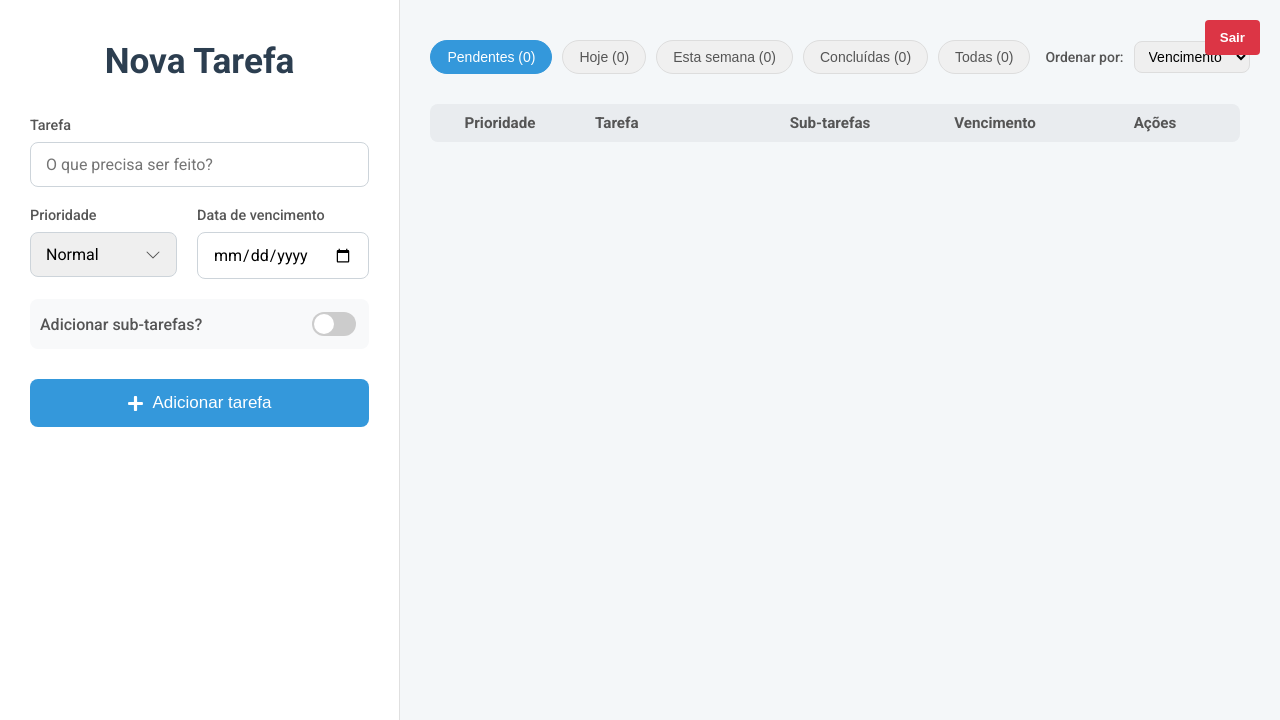
Test: Add Task › adiciona uma nova tarefa
The width and height of the screenshot is (1280, 720).
Type "Tarefa para teste" into the field with id "task-title" at (200, 165), box x1=30 y1=142 x2=369 y2=187
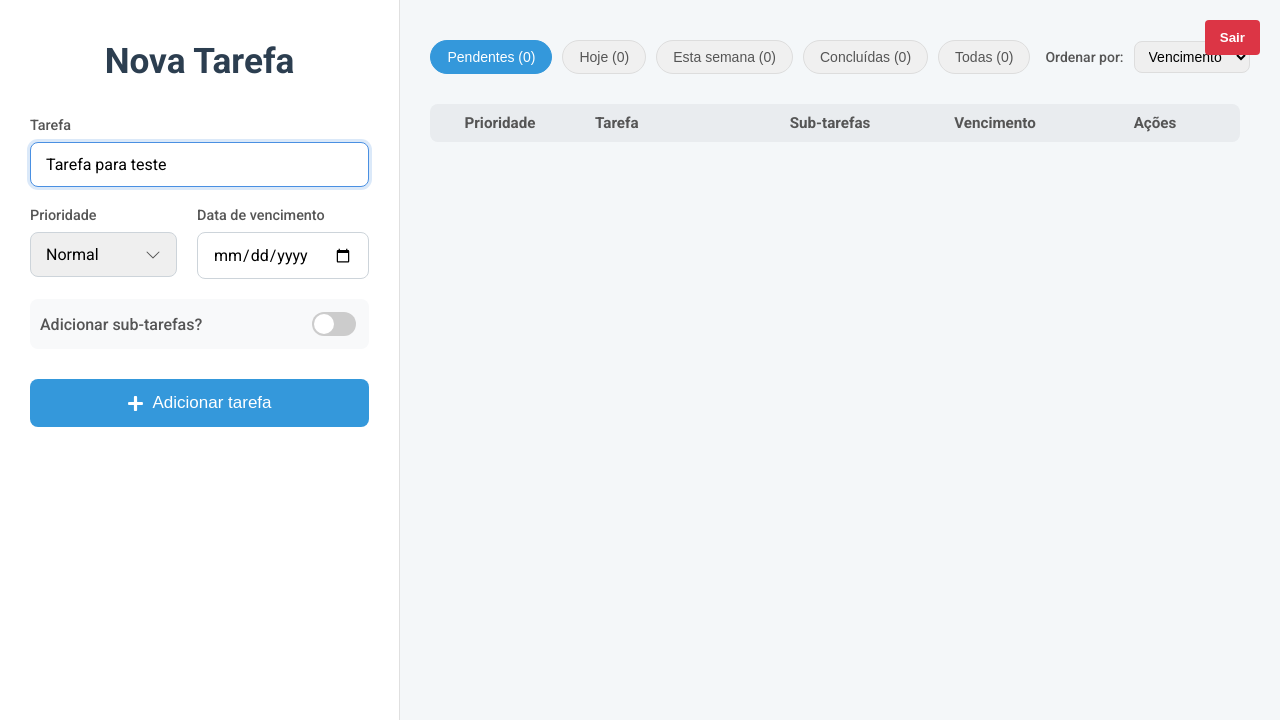
Select "Alta" in the dropdown with id "task-priority" at (104, 255), box x1=30 y1=232 x2=177 y2=277
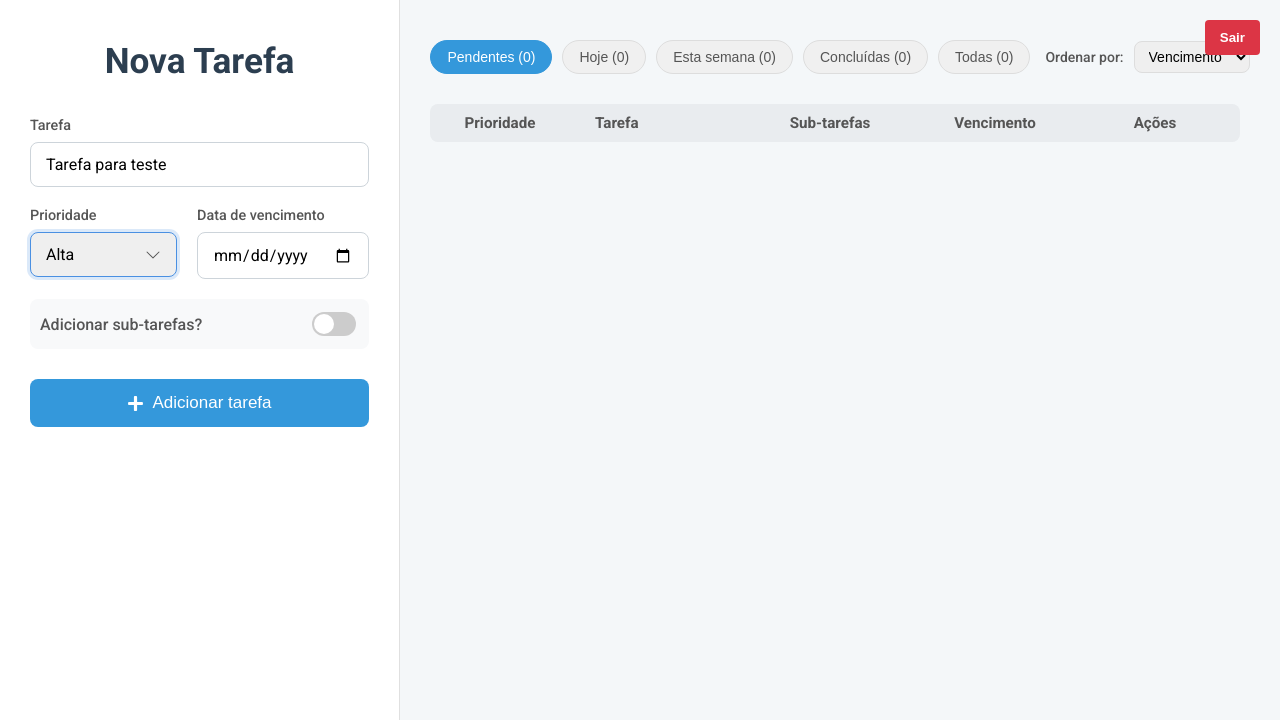
Type "2099-12-31" into the date field with id "task-due-date" at (283, 256), box x1=197 y1=232 x2=369 y2=279
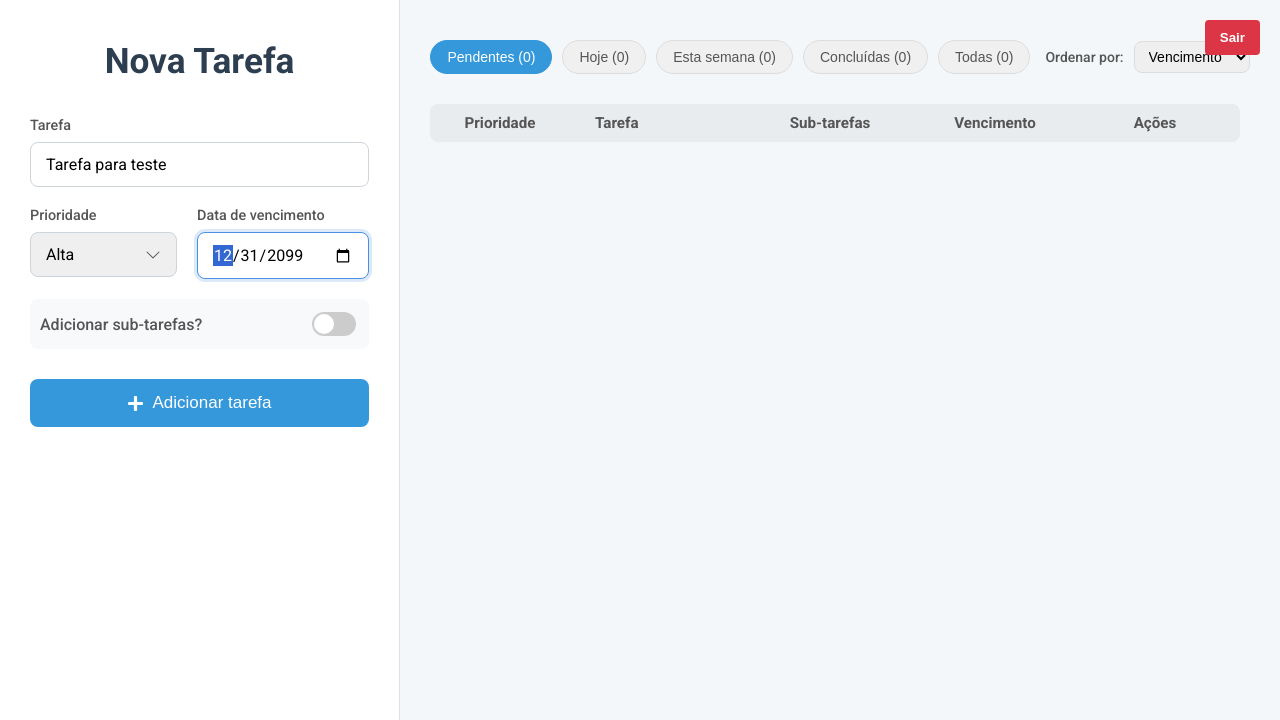
Click the button with class "add-task-btn" at (200, 403), box x1=30 y1=379 x2=369 y2=427
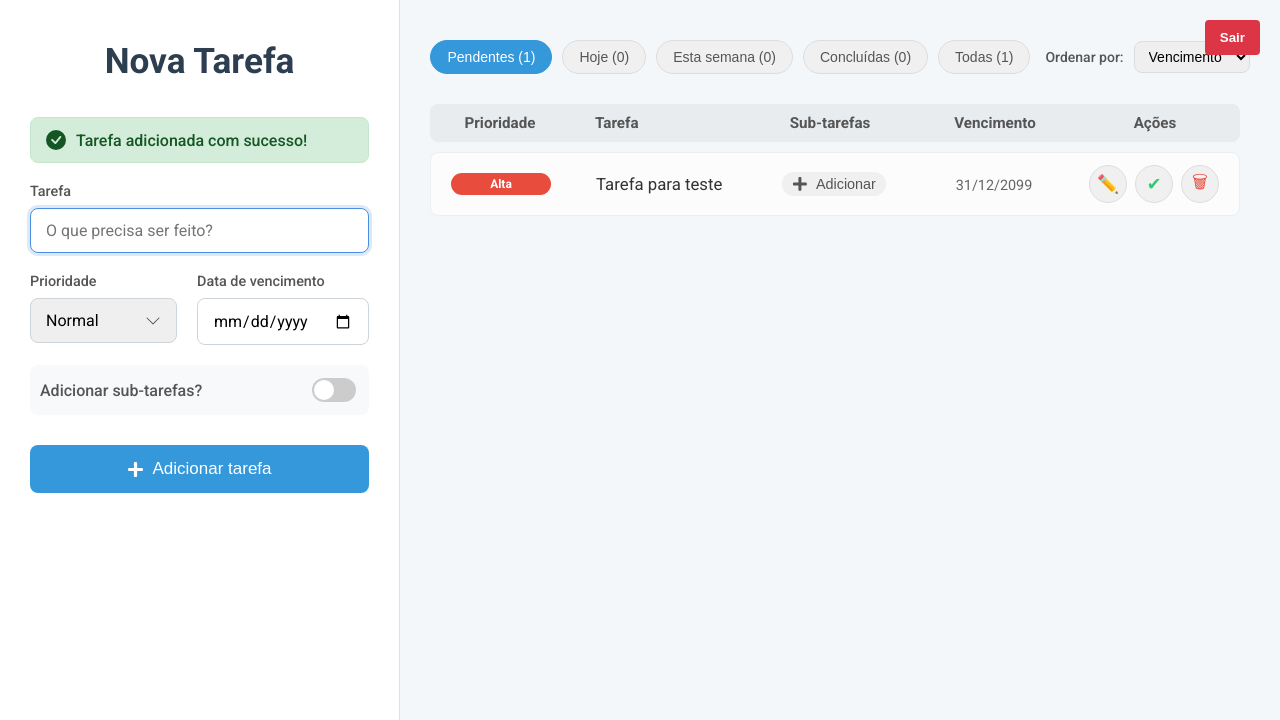
expect the text "Tarefa para teste" is shown: met, box x1=596 y1=174 x2=722 y2=194
